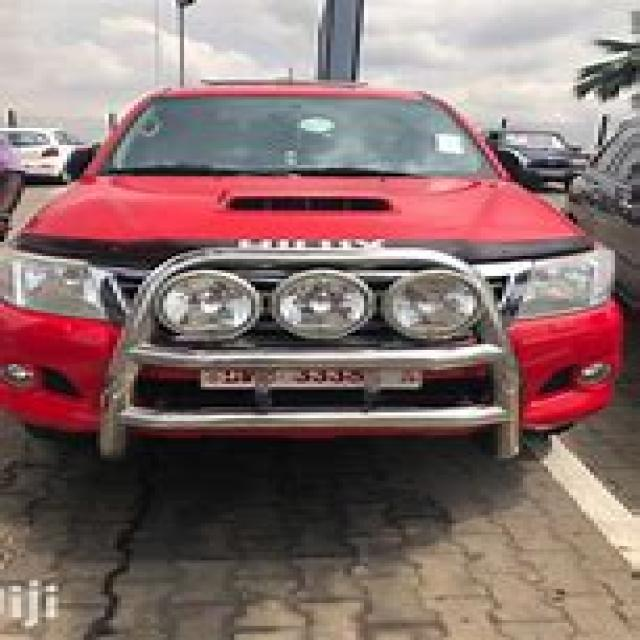light_vehicle: (0, 65, 636, 475)
